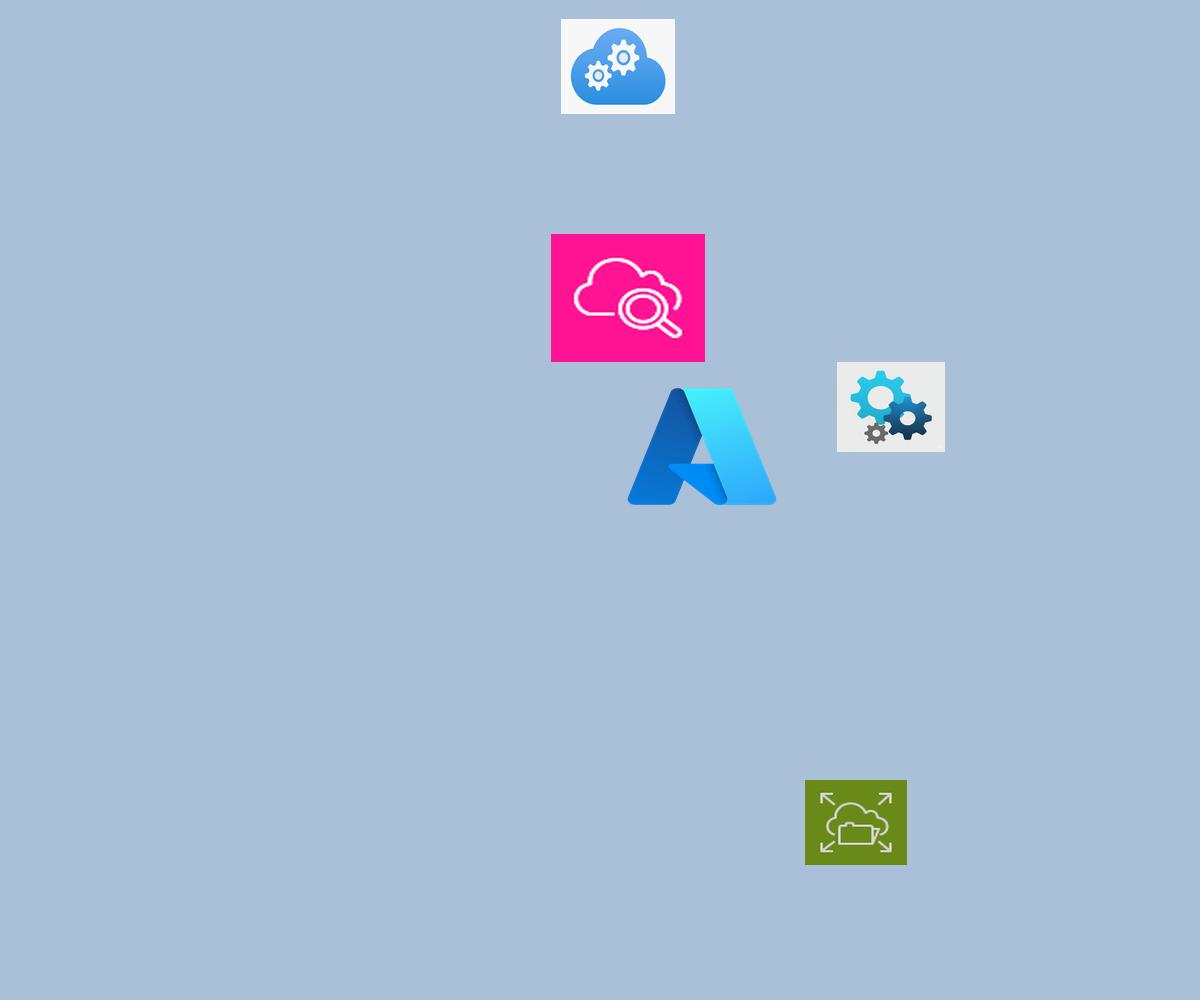AWS-CloudWatch: (551, 234, 705, 362)
AWS-EFS: (805, 780, 907, 865)
Azure_api: (837, 362, 945, 452)
Azure_cloud_services: (561, 19, 675, 114)
Azure_services: (621, 379, 783, 514)
